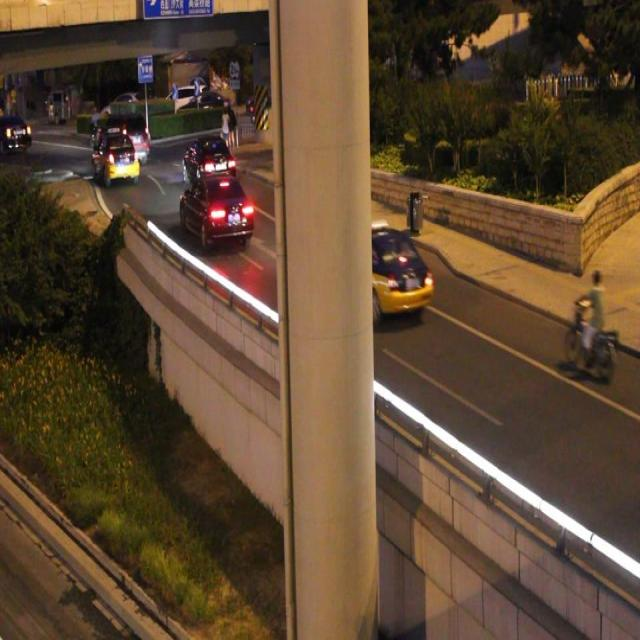car: (318, 218, 432, 318), (179, 170, 254, 248), (182, 136, 235, 189)
